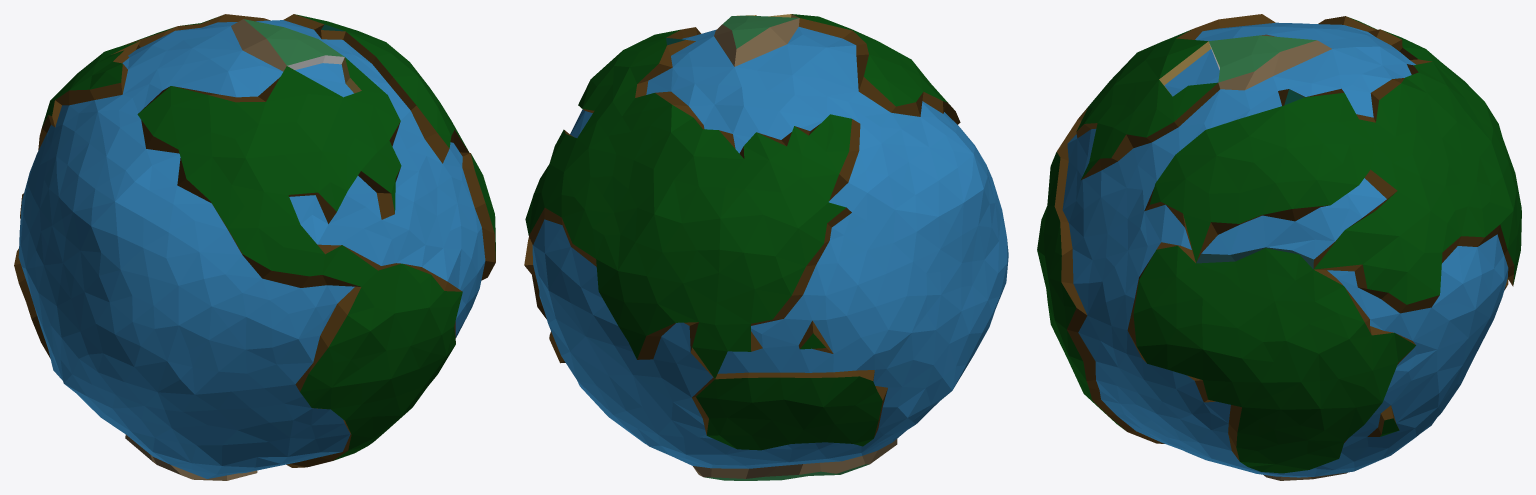
File: ankilingoearth.glb
3 renders of one model, left to right at view 1: azimuth 30°, elevation 25°; view 2: azimuth 150°, elevation 25°; view 3: azimuth 270°, elevation 25°, orthographic. The views are drawn at different scales.
Parts seen in each view (by area): view 1: Icosphere; view 2: Icosphere; view 3: Icosphere.
Part boxes in pixels (bbox=[...]): Icosphere: bbox=[14, 14, 495, 480]; Icosphere: bbox=[524, 14, 1008, 480]; Icosphere: bbox=[1037, 14, 1521, 480].
Size of the model in its own units: 6.9 by 7.05 by 7.04.
